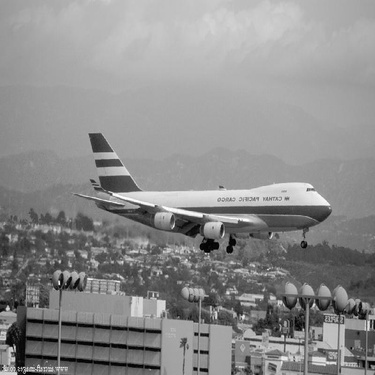airplane: (69, 125, 338, 258)
